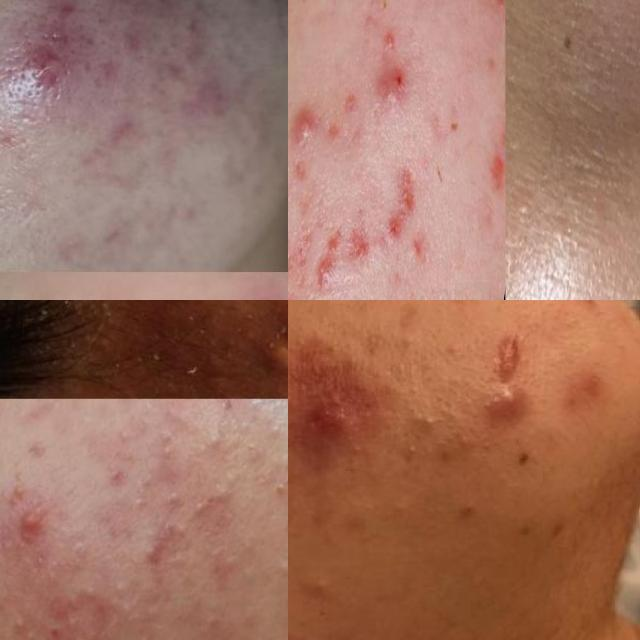acne_scars: (382, 145, 418, 251), (480, 332, 535, 386), (344, 203, 382, 259), (288, 208, 312, 278), (482, 140, 506, 208), (321, 209, 341, 285), (25, 27, 87, 50)
comedone: (237, 417, 288, 509), (298, 554, 352, 609), (184, 414, 235, 470), (382, 486, 421, 536), (182, 486, 224, 532), (122, 473, 157, 519), (390, 443, 427, 484), (98, 590, 142, 622), (257, 404, 288, 445), (153, 429, 184, 465), (70, 576, 104, 608), (189, 609, 224, 640), (420, 401, 445, 444), (158, 486, 186, 518), (269, 555, 288, 591), (112, 421, 136, 449), (62, 607, 86, 632), (234, 564, 253, 592), (8, 612, 28, 635), (129, 627, 157, 640), (0, 0, 9, 30), (0, 618, 7, 640)
cystic: (0, 53, 93, 136), (251, 325, 288, 393)
papule: (288, 375, 365, 460), (0, 493, 65, 558), (373, 46, 418, 116), (469, 385, 537, 427), (116, 528, 174, 576), (236, 281, 288, 300)
pustule: (295, 97, 330, 151)
sebo-crystan-conglo: (276, 300, 288, 372)
